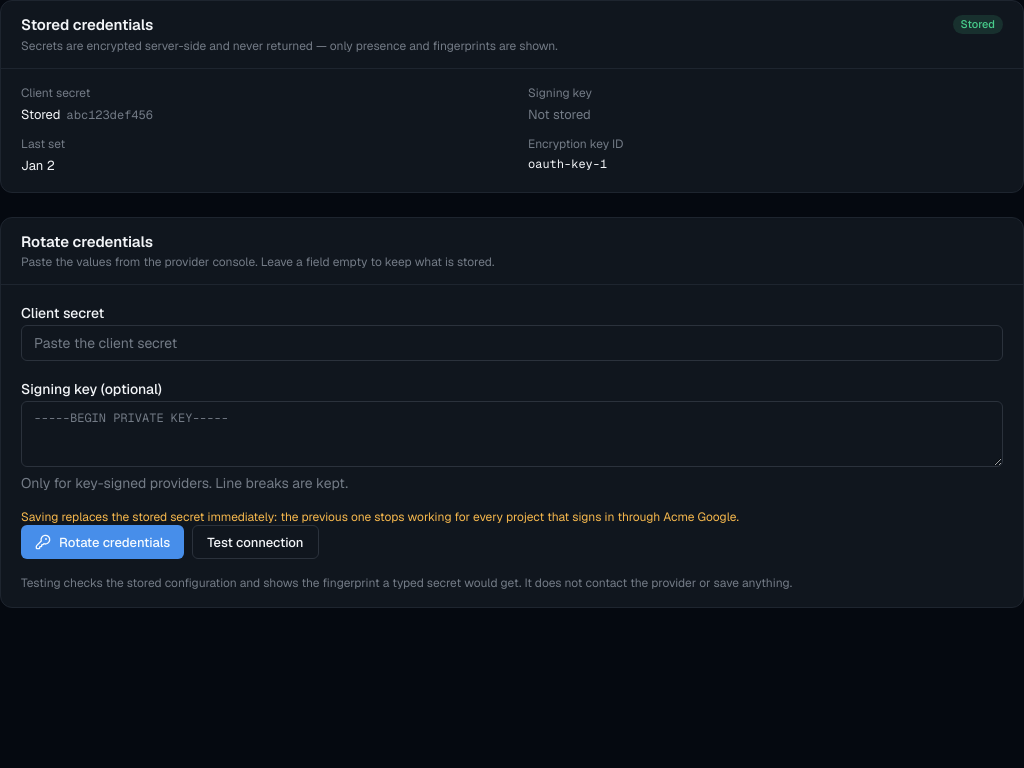
it: OAuthCredentialsTab › runs the non-persisting probe and compares the would-be fingerprint with the stored one
Type "super-secret" into the password field labelled "Client secret" at (512, 343), box [21,325,1003,361]
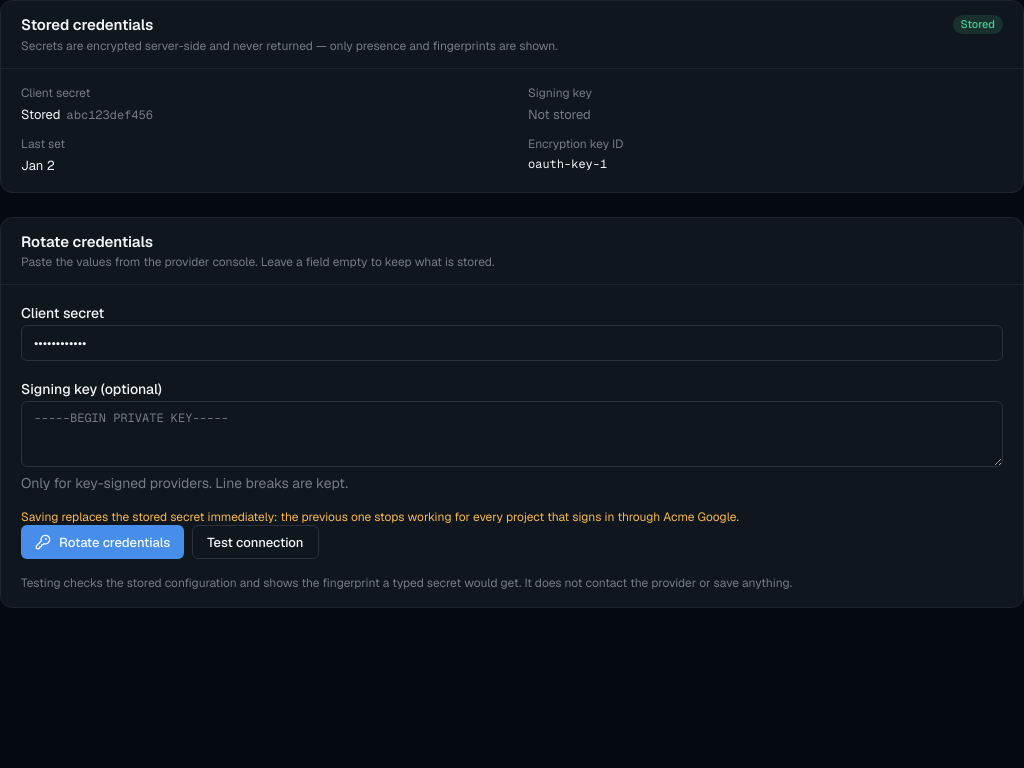
Click the button "Test connection" at (255, 542), box [192,525,318,559]
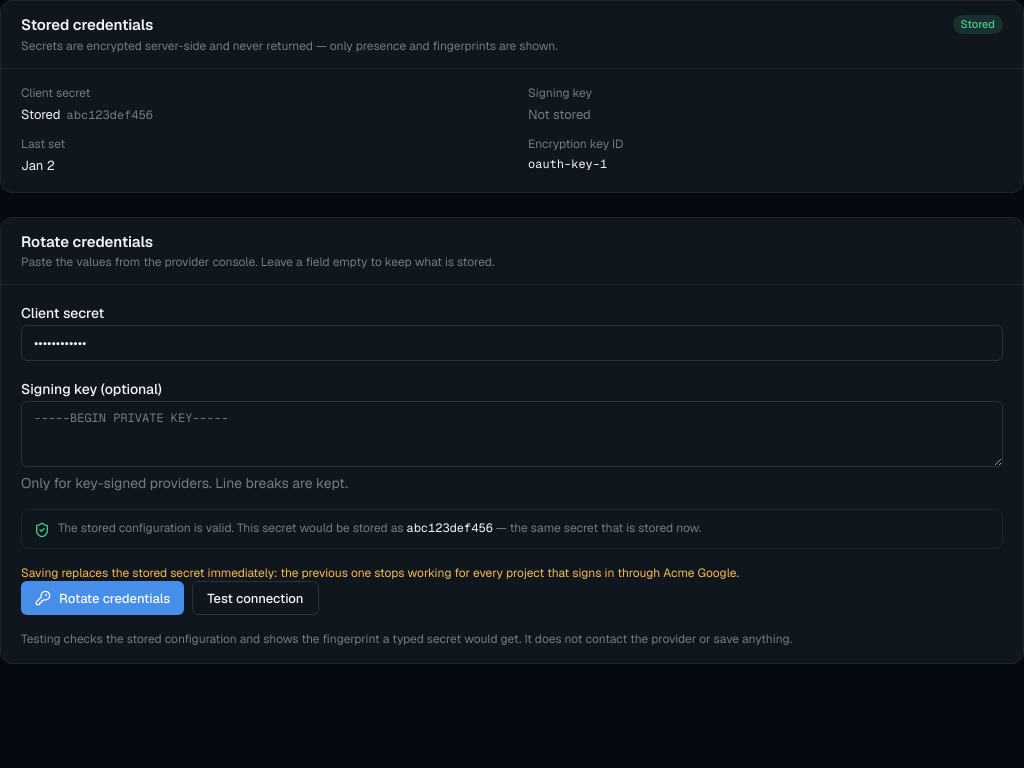
Expected: the text "the same secret that is stored now" is shown, [493,520,701,536]
